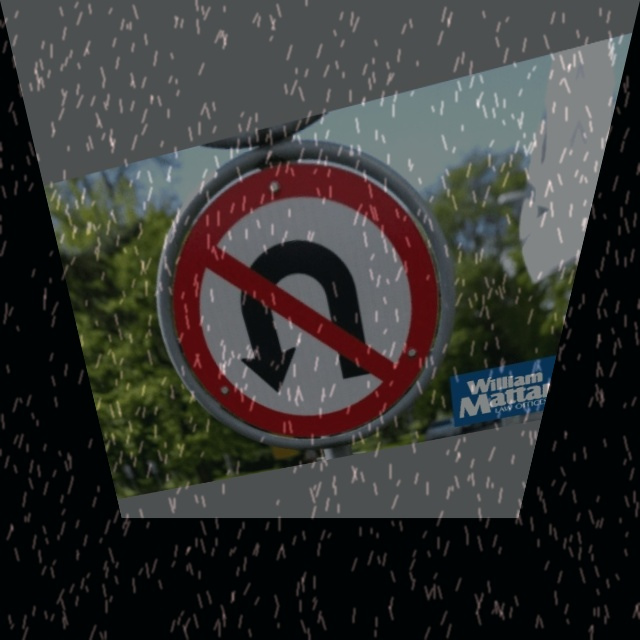U_Turn_Prohibited: (100, 113, 487, 447)
